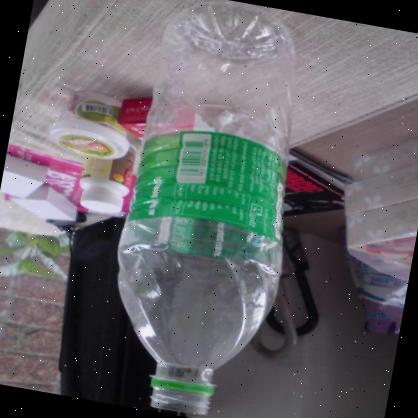bottle: (93, 0, 321, 418)
label: (128, 120, 291, 247)
